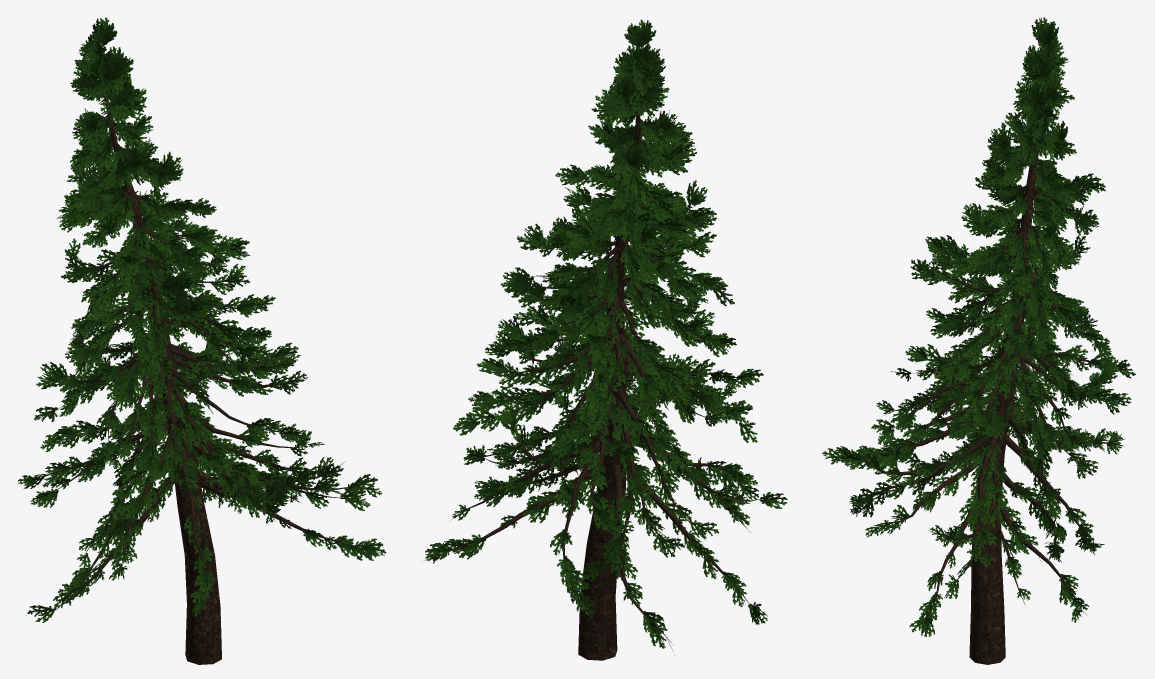
The model's file is prop_tree_oak_01.glb.
3 renders of one model, left to right at view 1: azimuth 30°, elevation 25°; view 2: azimuth 150°, elevation 25°; view 3: azimuth 270°, elevation 25°, orthographic. The views are drawn at different scales.
Parts seen in each view (by area): view 1: Tree; view 2: Tree; view 3: Tree.
Part boxes in pixels (x1,y1,x2,y2): Tree: (18,17,386,664); Tree: (424,19,787,660); Tree: (822,17,1135,664).
Size of the model in its own units: 42.12 by 79.76 by 38.25.
Materials: 2 (2 with a texture image).
